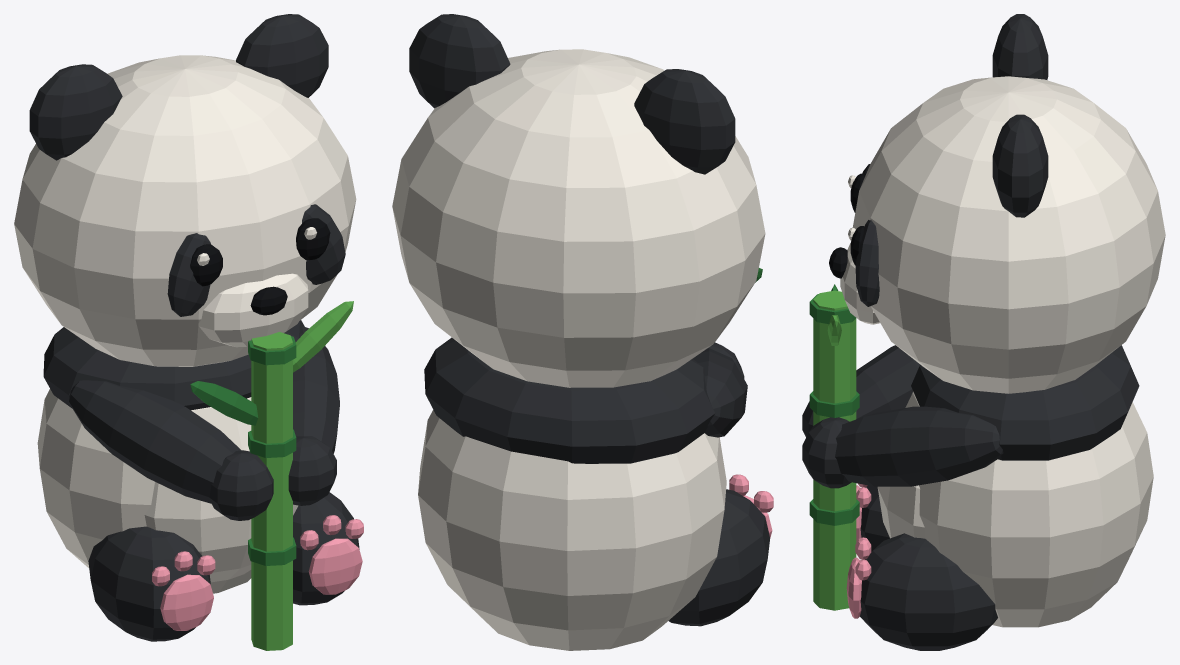
Rendered from bamboo-hug-panda.glb.
The picture shows the model from 3 angles, left to right: view 1: azimuth 30°, elevation 25°; view 2: azimuth 150°, elevation 25°; view 3: azimuth 270°, elevation 25°; orthographic projection. The views are drawn at different scales.
Visible parts, largest first — view 1: Panda_Pet; view 2: Panda_Pet; view 3: Panda_Pet.
Part boxes in pixels (x1,y1,x2,y2): Panda_Pet: (14, 14, 363, 650); Panda_Pet: (392, 14, 773, 650); Panda_Pet: (802, 14, 1165, 650).
Size of the model in its own units: 1.48 by 2.49 by 1.53.
